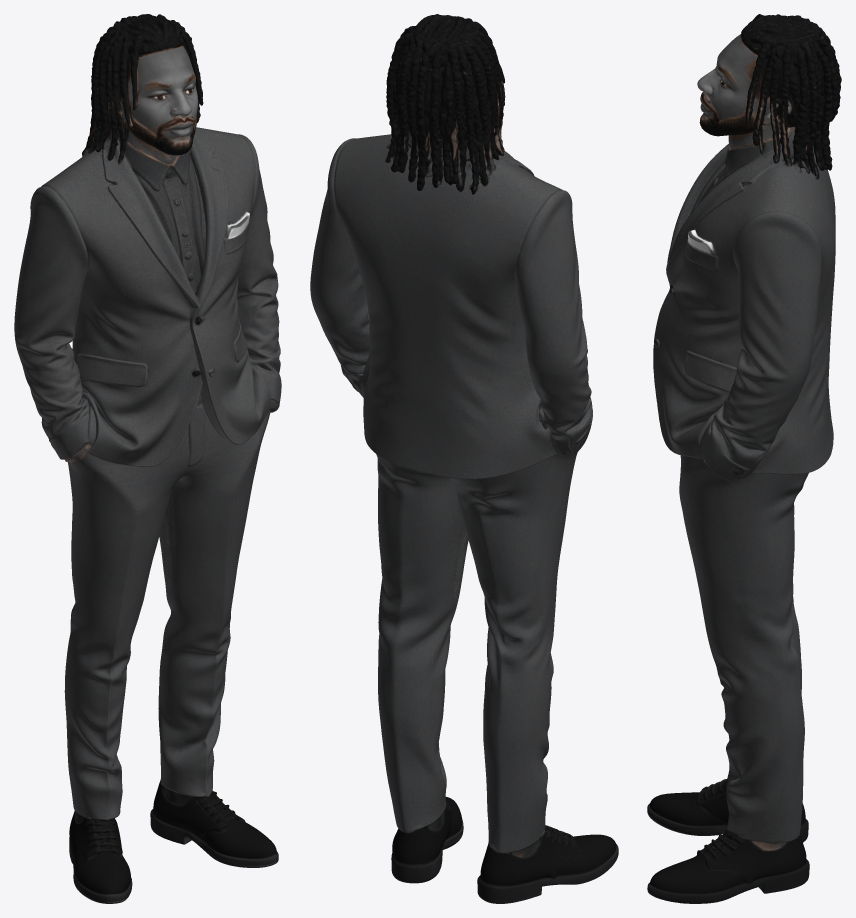
The model's file is marquis-v16.glb.
3 renders of one model, left to right at view 1: azimuth 30°, elevation 25°; view 2: azimuth 150°, elevation 25°; view 3: azimuth 270°, elevation 25°, orthographic. The views are drawn at different scales.
Bounding box in the file's own units: 0.6166 × 1.9 × 0.3969.
Materials: 1 (1 with a texture image).
